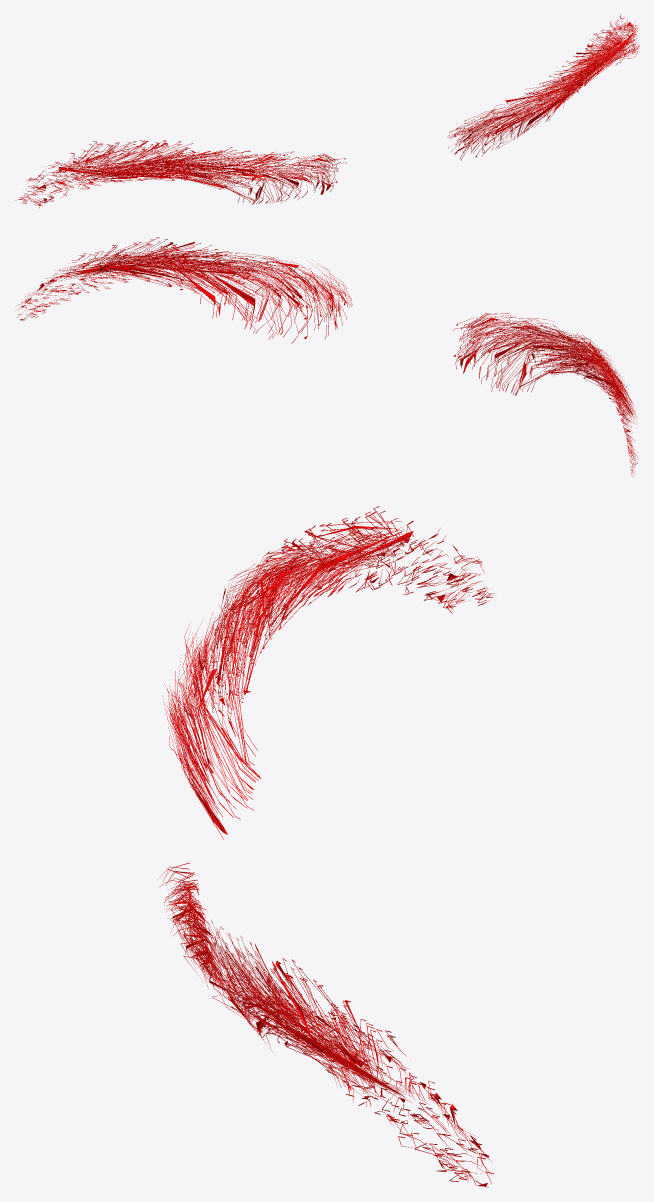
Rendered from mindfront_eyebrows_13_F.glb.
3 views of the same model, one above another, from view 1: azimuth 30°, elevation 25°; view 2: azimuth 150°, elevation 25°; view 3: azimuth 270°, elevation 25° (orthographic). The views are drawn at different scales.
Size of the model in its own units: 0.1196 by 0.0156 by 0.0282.
1 material, 1 textured.
